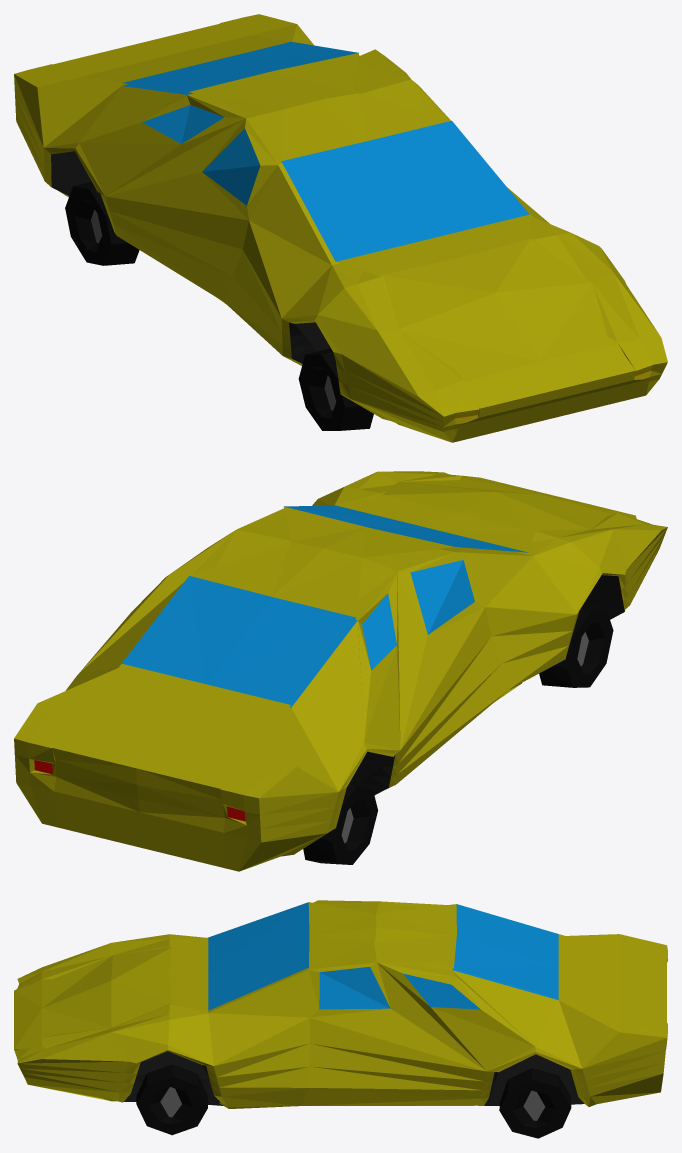
File: car4.obj
3 renders of one model, top to bottom at view 1: azimuth 30°, elevation 25°; view 2: azimuth 150°, elevation 25°; view 3: azimuth 270°, elevation 25°, orthographic. The views are drawn at different scales.
Visible parts, largest first — view 1: Car.Body.003; view 2: Car.Body.003; view 3: Car.Body.003.
Part boxes in pixels (x1=…): Car.Body.003: x1=14, y1=14, x2=667, y2=442; Car.Body.003: x1=14, y1=471, x2=667, y2=871; Car.Body.003: x1=14, y1=900, x2=667, y2=1138.
Bounding box in the file's own units: 1.12 × 0.7715 × 2.77.
